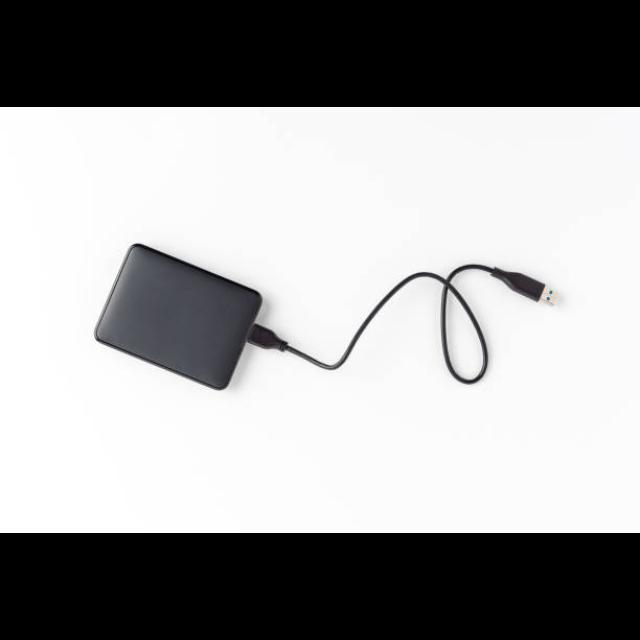HDD: (93, 244, 264, 392)
